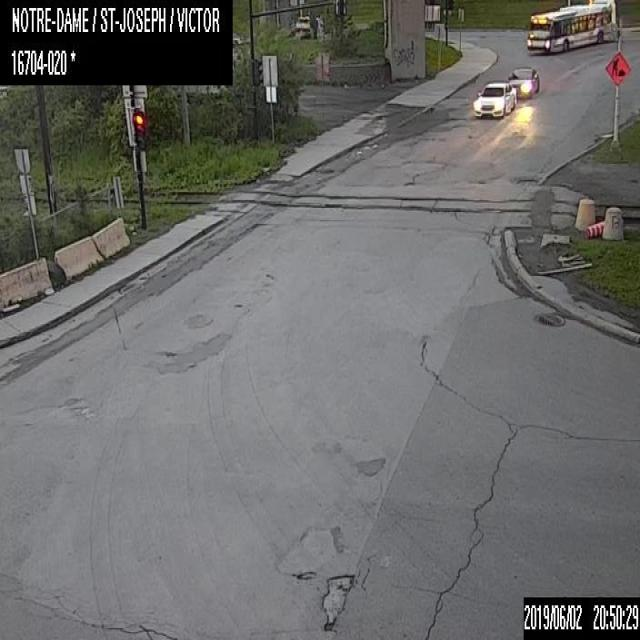bus: (527, 0, 615, 52)
construction: (604, 50, 630, 86), (581, 219, 604, 237)
vehicle: (473, 82, 516, 117), (508, 66, 539, 96), (296, 16, 323, 38)
